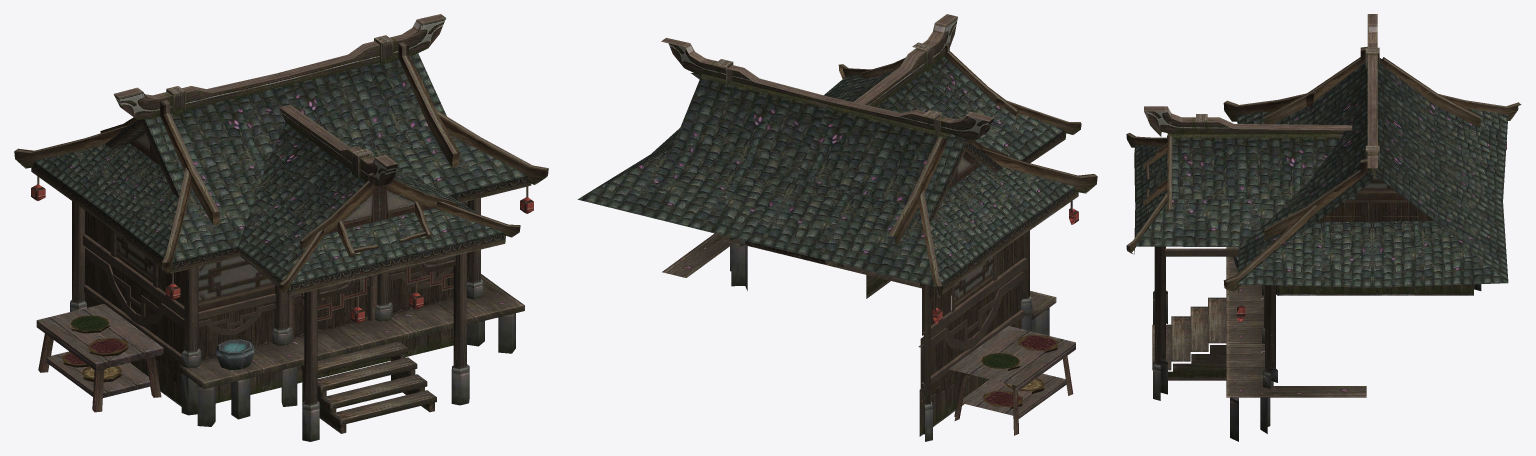
The model's file is SC001Jjianzhu_26.FBX.
The picture shows the model from 3 angles, left to right: view 1: azimuth 30°, elevation 25°; view 2: azimuth 150°, elevation 25°; view 3: azimuth 270°, elevation 25°; orthographic projection. The views are drawn at different scales.
Visible parts, largest first — view 1: SC001Jjianzhu_26; view 2: SC001Jjianzhu_26; view 3: SC001Jjianzhu_26.
Part boxes in pixels (left/top/right/bottom): SC001Jjianzhu_26: left=14, top=14, right=548, bottom=441; SC001Jjianzhu_26: left=577, top=14, right=1097, bottom=441; SC001Jjianzhu_26: left=1126, top=14, right=1521, bottom=441.
Bounding box in the file's own units: 12.13 × 8.01 × 10.52.
